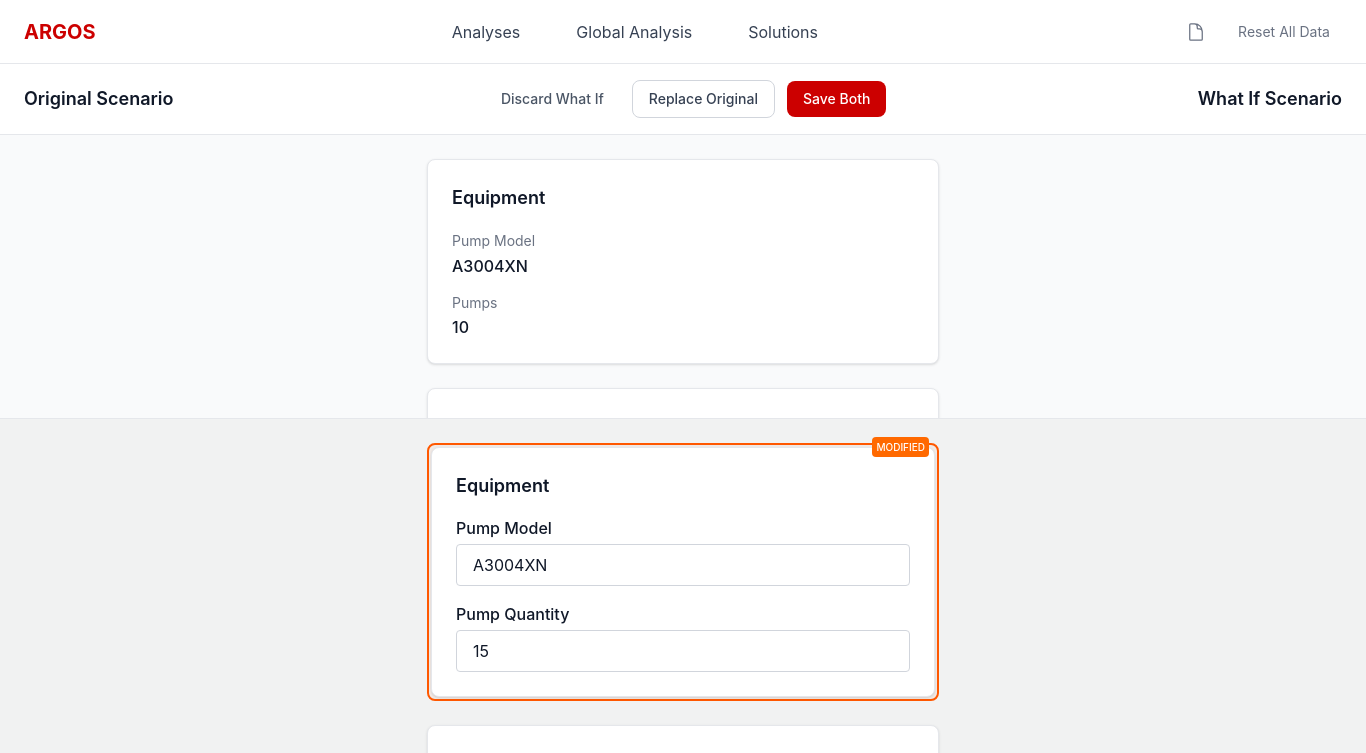
Scenario: ComparisonView › Replace Original opens confirmation modal
The image size is (1366, 753).
Click the button "Replace Original".
click(703, 99)  # box [632,80,775,118]
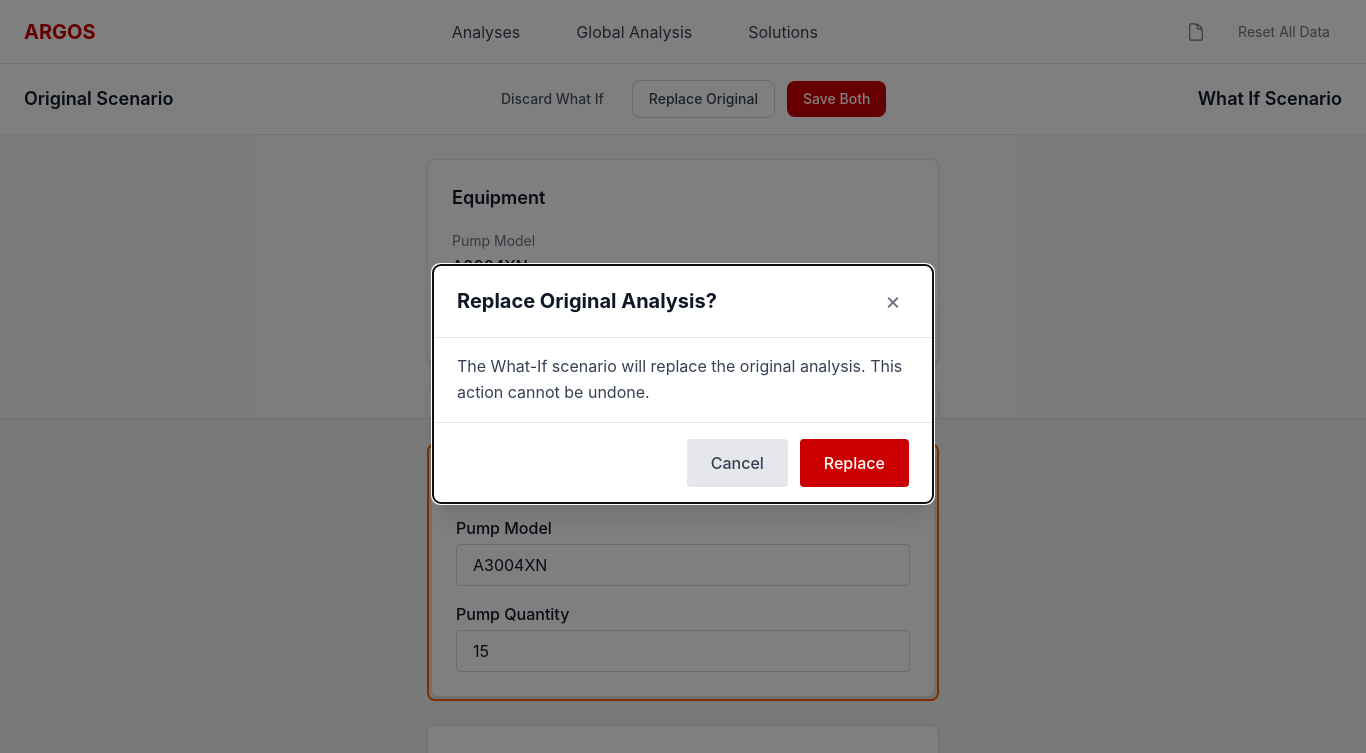
Expected: the heading "Replace Original Analysis?" is shown, [457,287,717,315]
Expected: the text "The What-If scenario will replace the original analysis. This action cannot be undone." is shown, [457,356,902,402]
